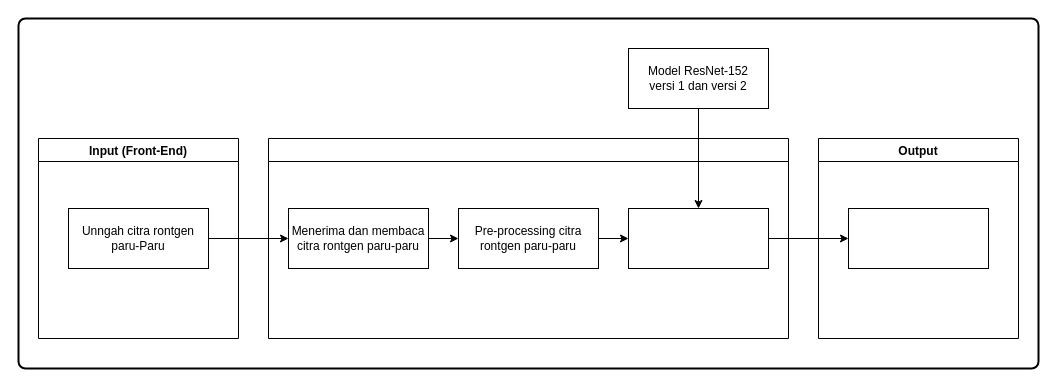
This 1056x386 diagram has some shape labels left out. Here are the shapes that lost their labels. From the top down, the box of each, then its label:
(268, 138, 788, 338): Proses (Back-End)
(628, 208, 768, 268): Prediksi gambar menggunakan model yang telah dibuat
(848, 208, 988, 268): Klasifikasi citra rontgen paru-paru
